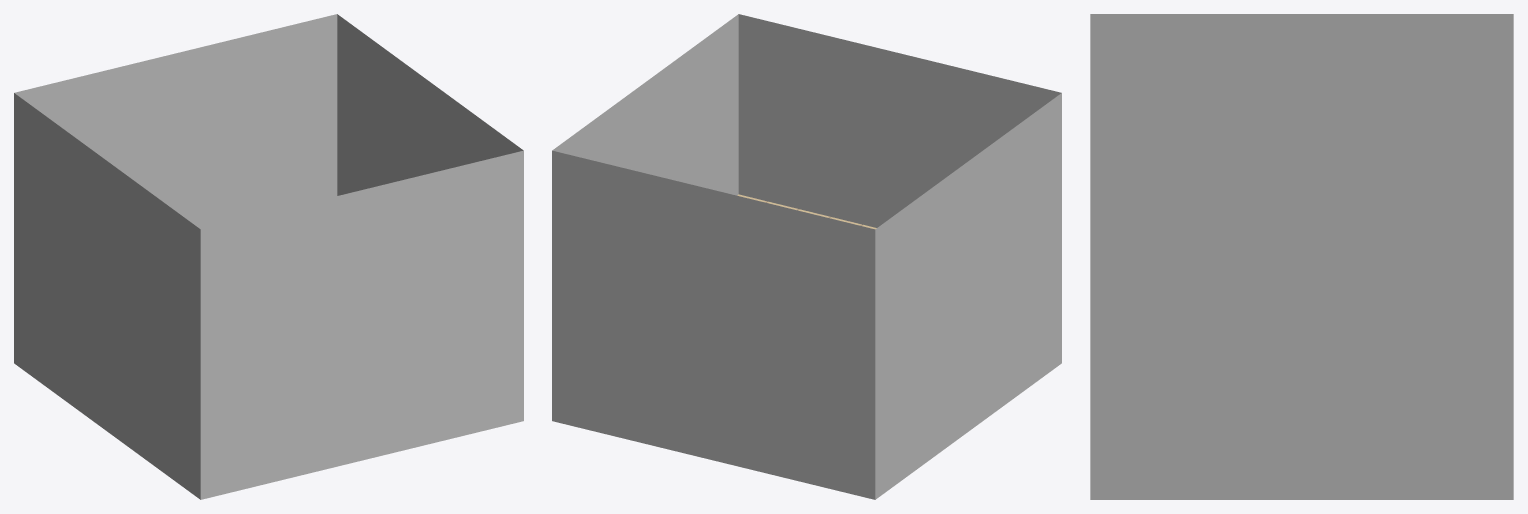
File: 01Stage.obj
The picture shows the model from 3 angles, left to right: view 1: azimuth 30°, elevation 25°; view 2: azimuth 150°, elevation 25°; view 3: azimuth 270°, elevation 25°; orthographic projection. The views are drawn at different scales.
Parts seen in each view (by area): view 1: 立方体; view 2: 立方体; view 3: 立方体.
Part boxes in pixels (x1,y1,x2,y2): 立方体: (14, 14, 523, 499); 立方体: (552, 14, 1061, 499); 立方体: (1090, 14, 1513, 499).
Bounding box in the file's own units: 30 × 24 × 30.
